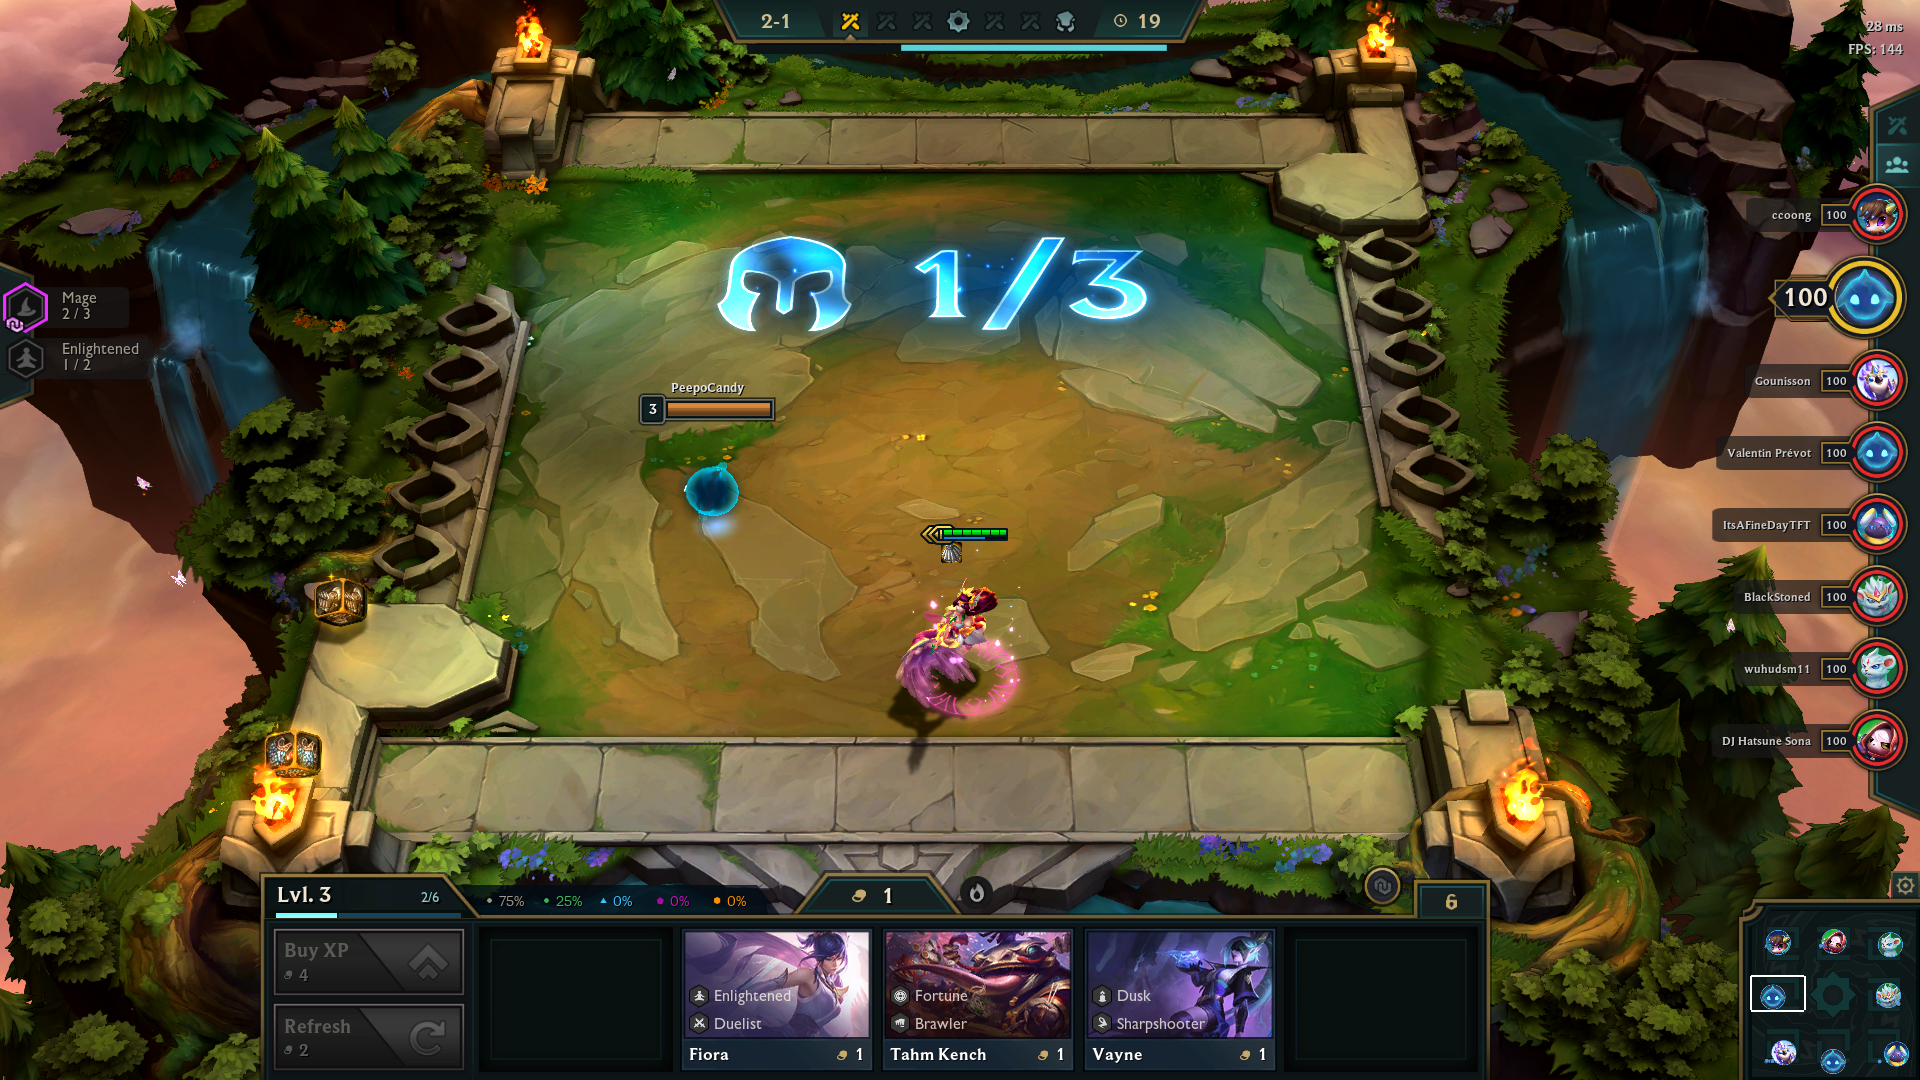3star_nami: (887, 516, 1038, 727)
3star_nami_chosen: (885, 514, 1036, 725)
item_negatron: (939, 537, 964, 566)
trait_enlightened: (1, 334, 207, 378)
trait_mage2: (1, 280, 207, 336)
trait_mage_chosen: (1, 280, 54, 336)
